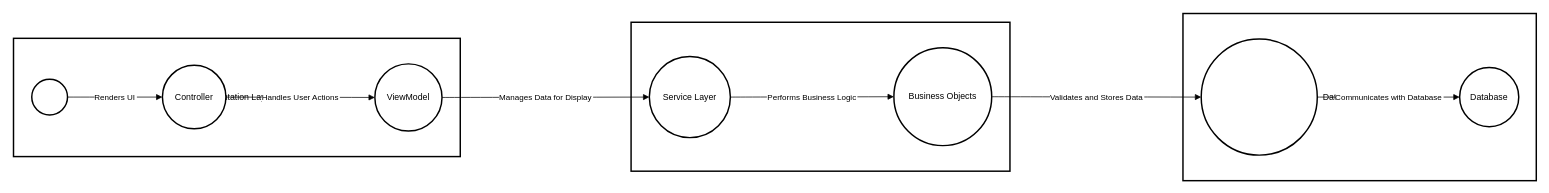
This 1549x193 diagram has some shape labels left out. The box of each missing label's shape, as (x1, y1, x2, y2) in pixels:
Business Logic Layer: (630, 21, 1010, 172)
Data Access Objects: (1200, 38, 1318, 155)
View: (31, 78, 68, 115)
